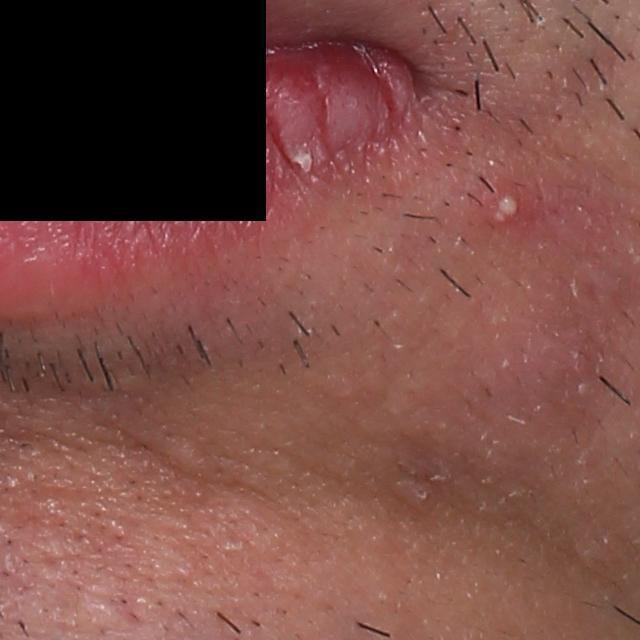pustule: (481, 182, 530, 230)
